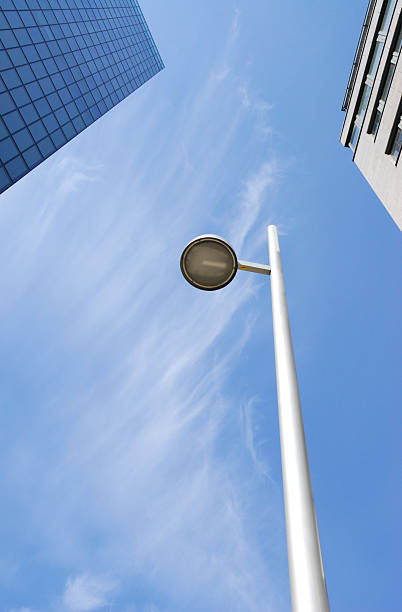light_pole: (260, 232, 335, 612)
